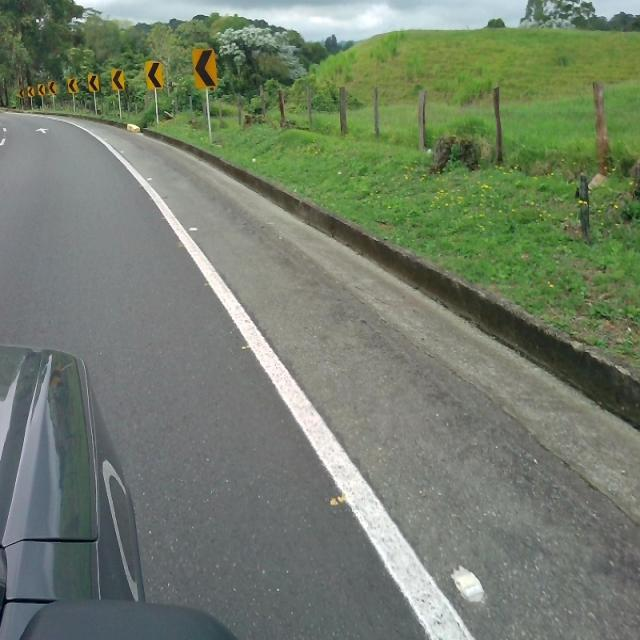DITCH: (1, 107, 638, 638), (24, 96, 638, 639)
